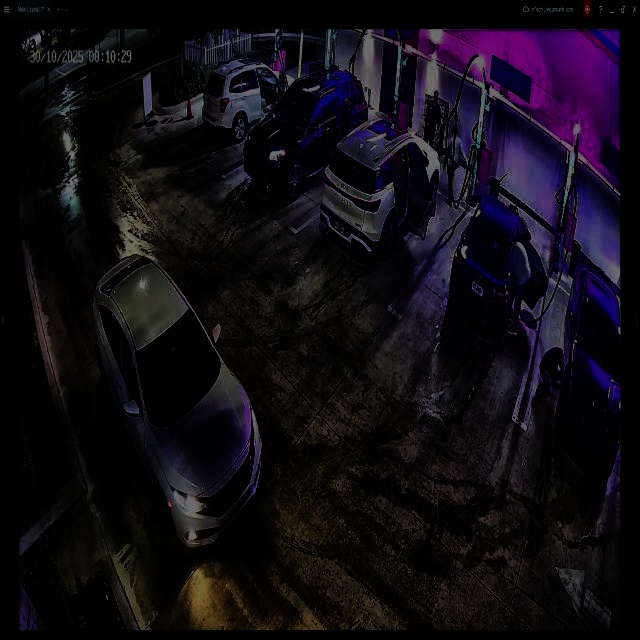Car: (89, 252, 262, 548), (321, 119, 440, 254), (245, 69, 367, 187), (449, 198, 548, 337)
